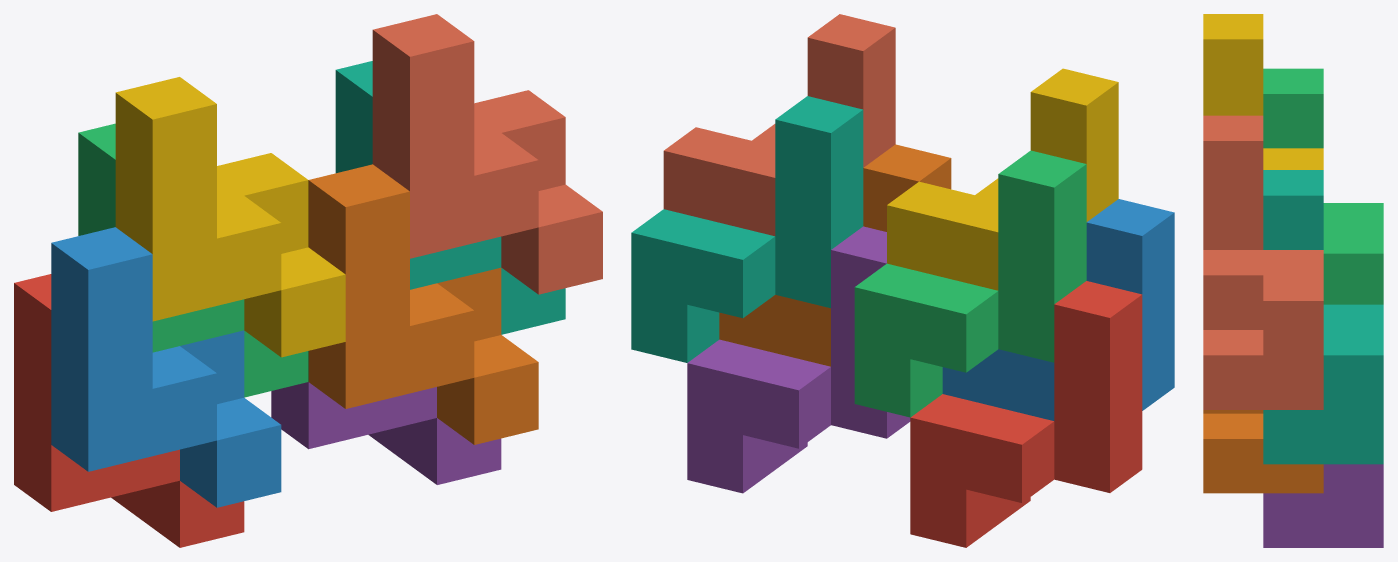
Rendered from tiling.obj.
3 views of the same model, side by side, from view 1: azimuth 30°, elevation 25°; view 2: azimuth 150°, elevation 25°; view 3: azimuth 270°, elevation 25° (orthographic). The views are drawn at different scales.
Visible parts, largest first — view 1: copy_1_domain_8, copy_1_domain_4, copy_1_domain_2, copy_1_domain_6, copy_1_domain_1, copy_1_domain_5, copy_1_domain_3, copy_1_domain_7; view 2: copy_1_domain_1, copy_1_domain_3, copy_1_domain_7, copy_1_domain_5, copy_1_domain_8, copy_1_domain_4, copy_1_domain_2, copy_1_domain_6; view 3: copy_1_domain_8, copy_1_domain_7, copy_1_domain_3, copy_1_domain_5, copy_1_domain_4, copy_1_domain_6.
Boxes of the visible parts, left/top/right/bottom form: copy_1_domain_8: left=372, top=14, right=602, bottom=294; copy_1_domain_4: left=115, top=77, right=345, bottom=357; copy_1_domain_2: left=51, top=227, right=281, bottom=507; copy_1_domain_6: left=308, top=164, right=538, bottom=444; copy_1_domain_1: left=14, top=274, right=244, bottom=547; copy_1_domain_5: left=271, top=382, right=501, bottom=484; copy_1_domain_3: left=78, top=123, right=308, bottom=397; copy_1_domain_7: left=335, top=61, right=565, bottom=334; copy_1_domain_1: left=910, top=281, right=1142, bottom=547; copy_1_domain_3: left=854, top=150, right=1086, bottom=417; copy_1_domain_7: left=631, top=96, right=863, bottom=362; copy_1_domain_5: left=687, top=226, right=910, bottom=493; copy_1_domain_8: left=663, top=14, right=895, bottom=236; copy_1_domain_4: left=887, top=68, right=1118, bottom=290; copy_1_domain_2: left=942, top=199, right=1174, bottom=420; copy_1_domain_6: left=719, top=144, right=951, bottom=366; copy_1_domain_8: left=1203, top=115, right=1323, bottom=409; copy_1_domain_7: left=1263, top=170, right=1383, bottom=464; copy_1_domain_3: left=1263, top=68, right=1383, bottom=304; copy_1_domain_5: left=1263, top=464, right=1383, bottom=547; copy_1_domain_4: left=1203, top=14, right=1323, bottom=169; copy_1_domain_6: left=1203, top=410, right=1323, bottom=493.
Size of the model in its own units: 8 by 7 by 3.
